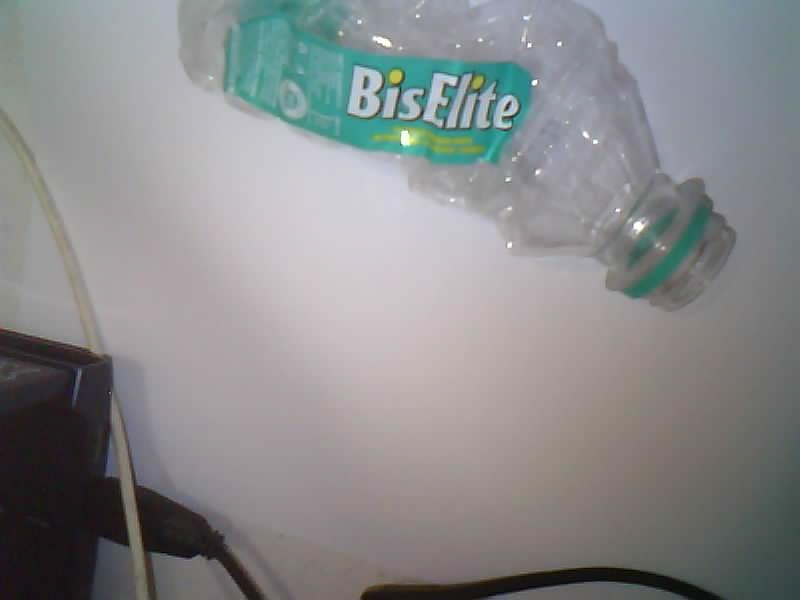non-biodegradable: (180, 0, 734, 308)
